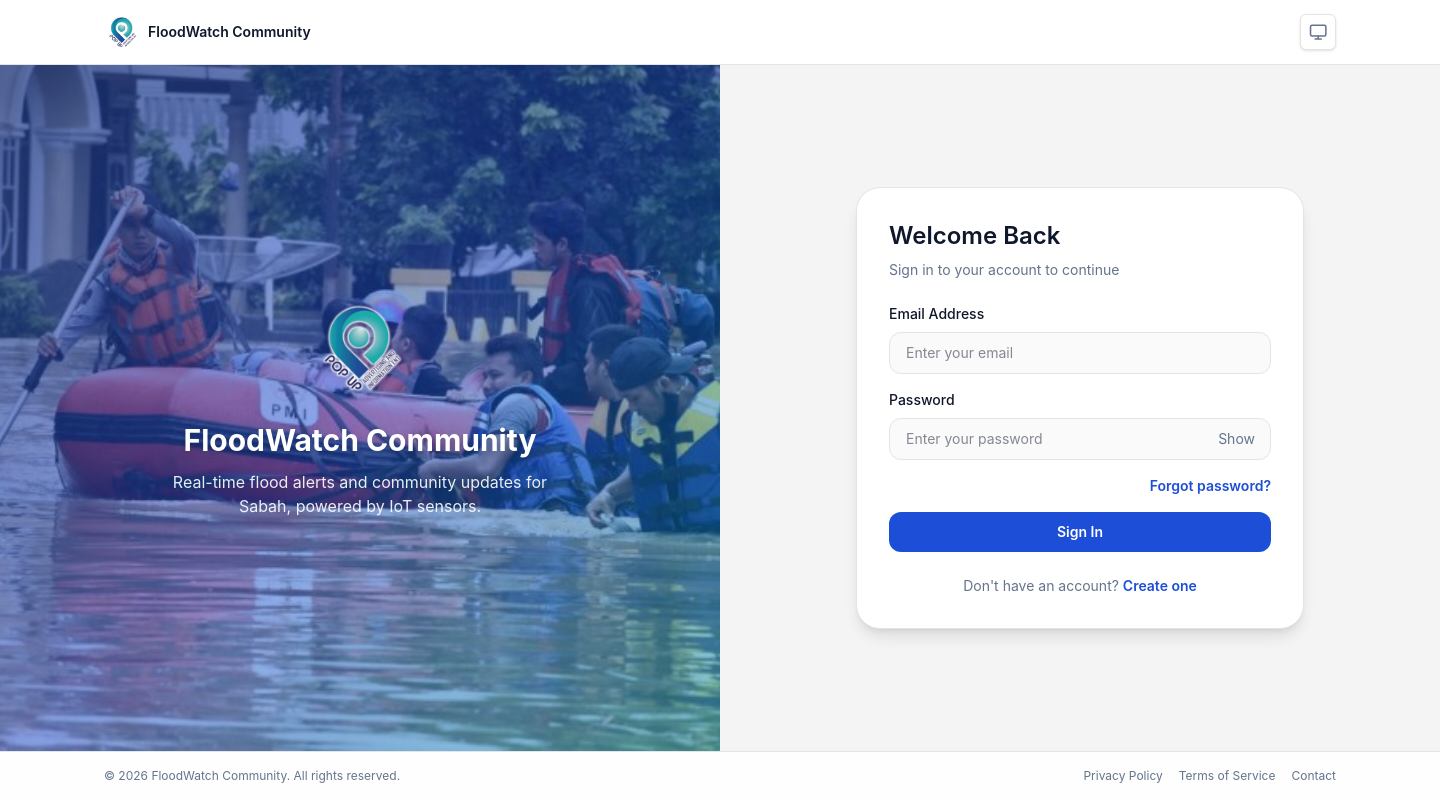
Test case: Community · login › switches to the register view and back
Click the button "Create one" at (1160, 586), box [1123,576,1197,596]
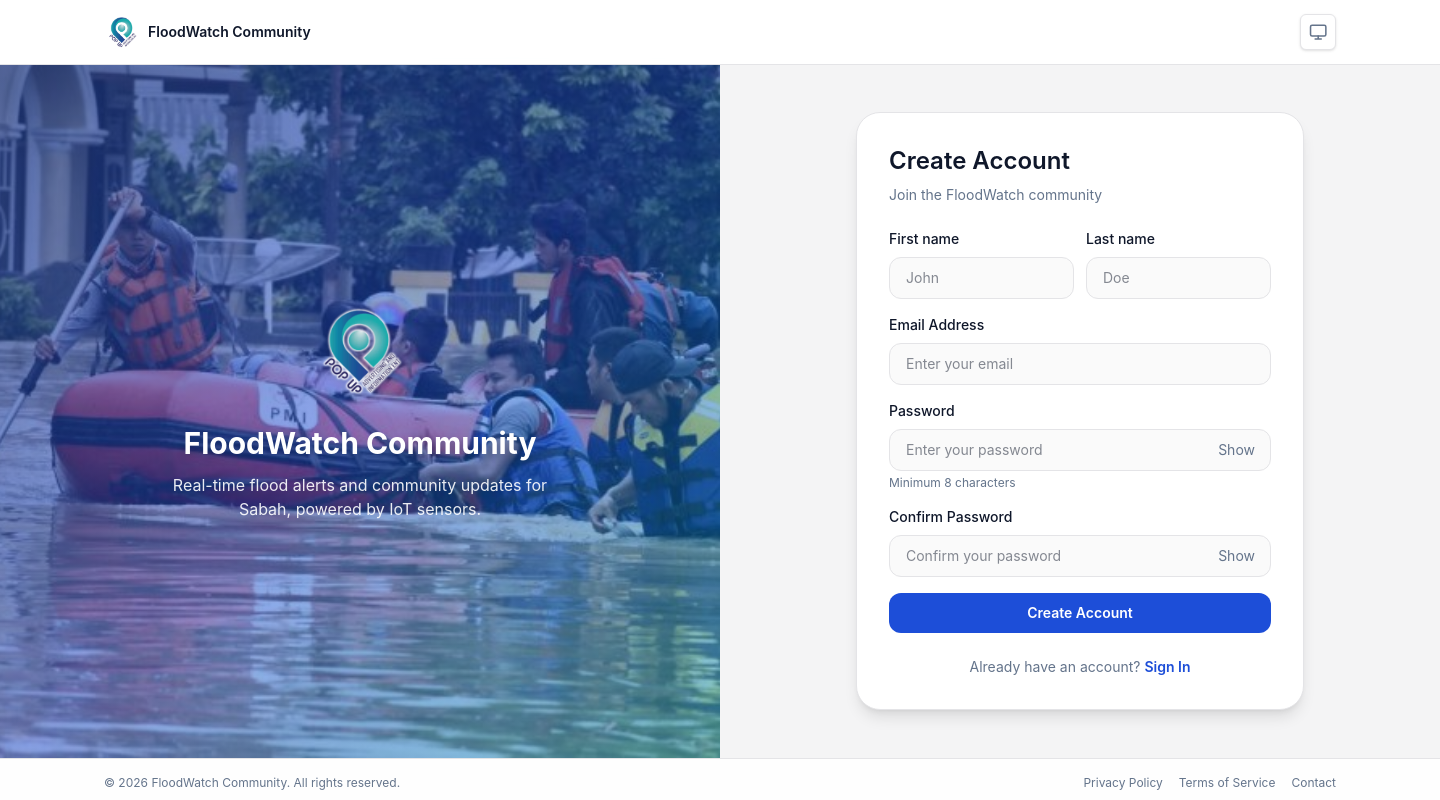
Expected: the heading "Create Account" is shown, [889,146,1070,175]
Click the button "Sign In" at (1167, 667), box [1144,657,1190,677]
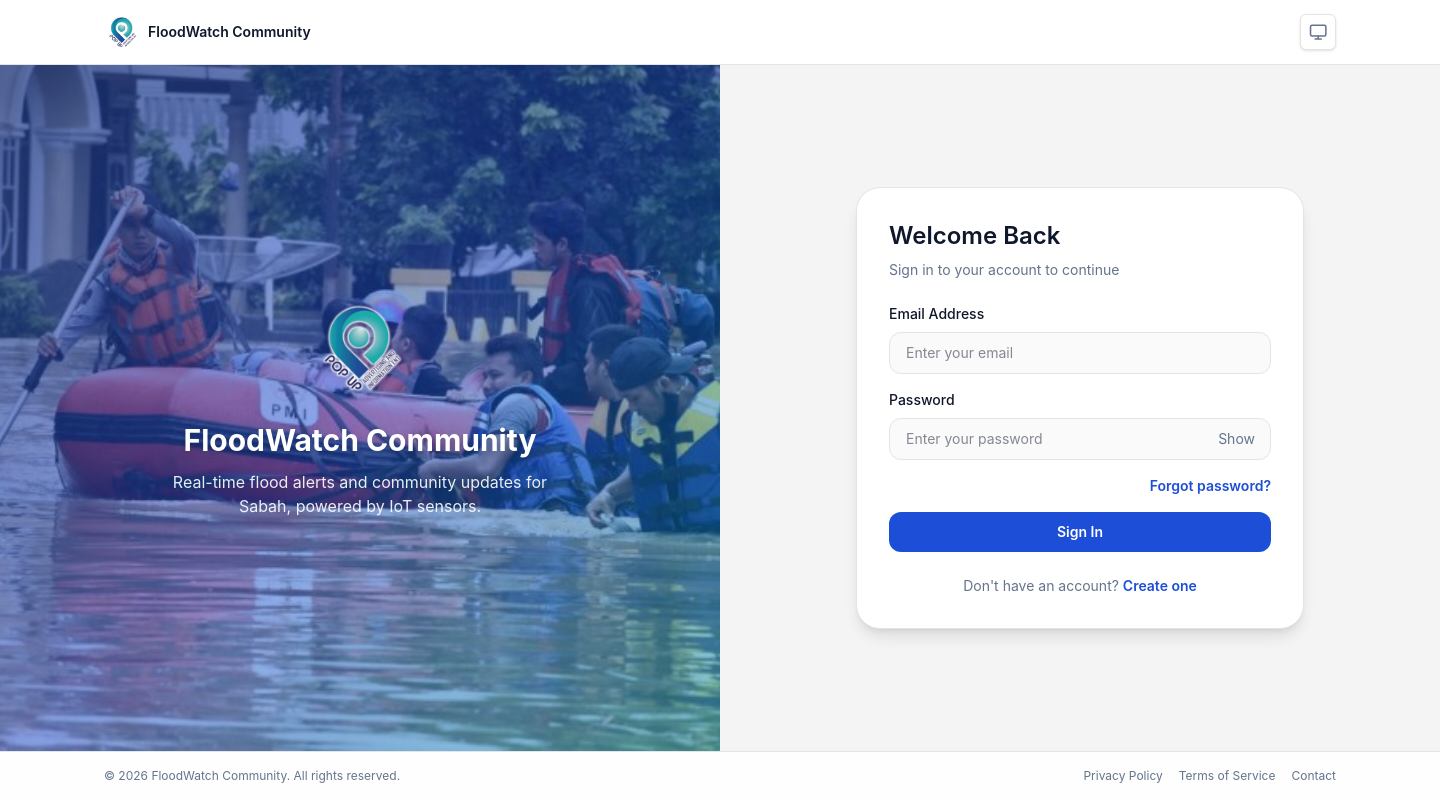
Expected: the heading "Welcome Back" is shown, [889,220,1060,250]
